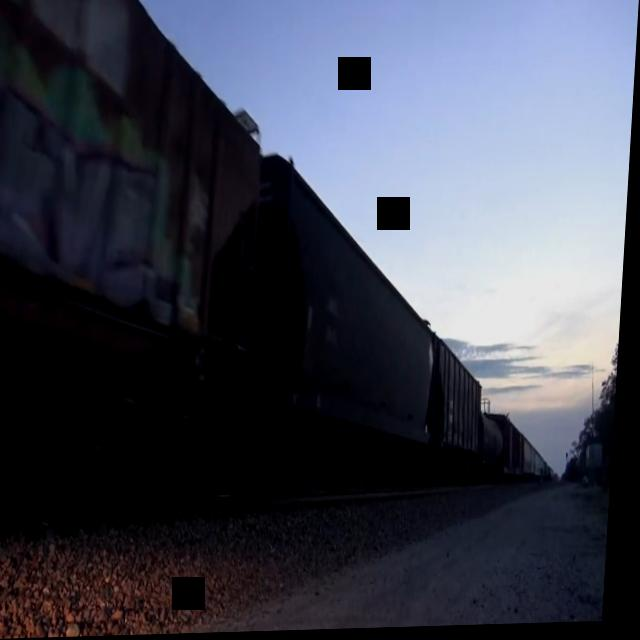hopper: (0, 0, 282, 528), (257, 133, 457, 504)
